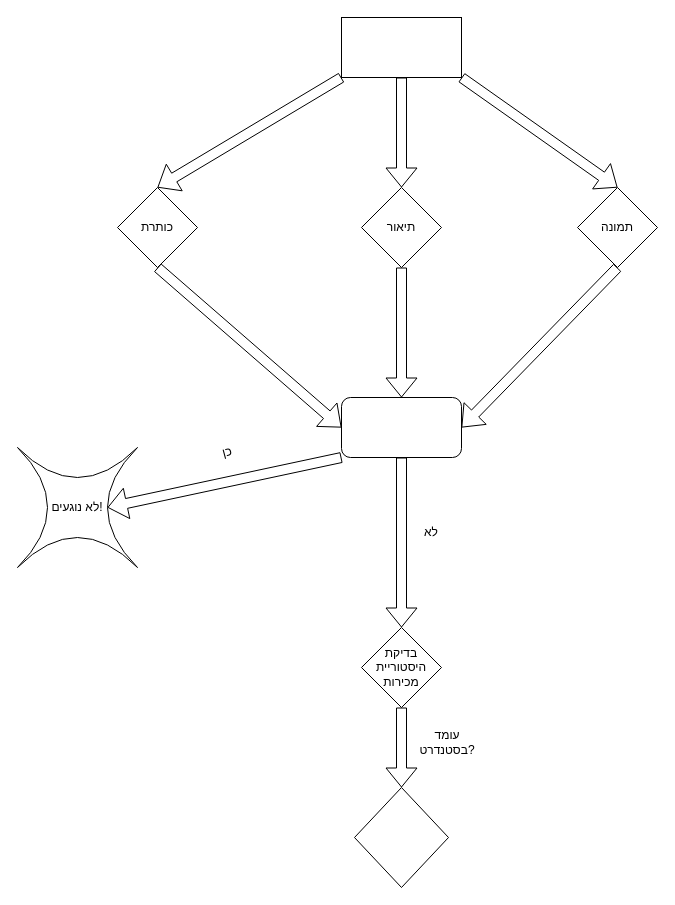
This 675x905 diagram has some shape labels left out. Each missing label, with the centre of its shape:
בדיקת VERO: (401,47)
האם יש שם של חברה? בדיקה באתרים שהוא נתן ובגוגל: (401,427)
עוברים למציאת ספק: (401,837)
